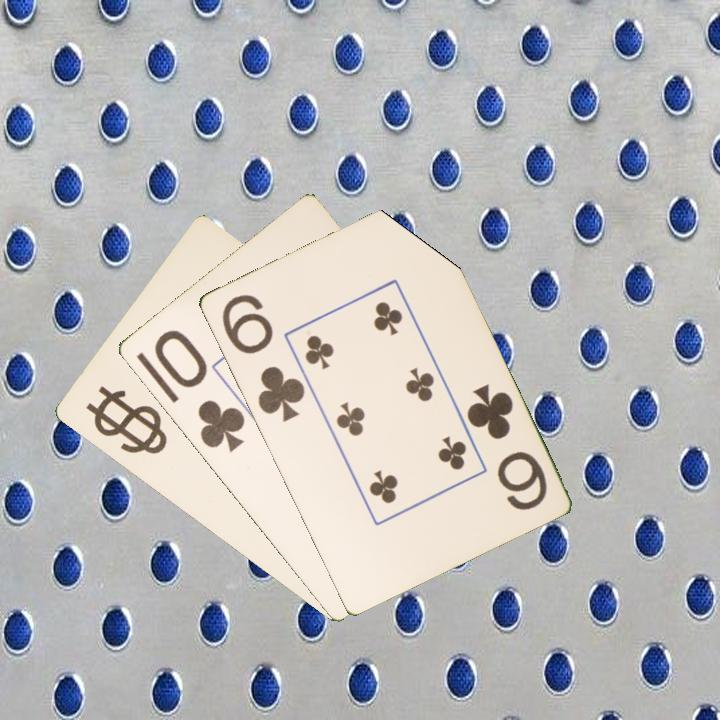10c: (149, 326, 248, 455)
6c: (217, 290, 308, 425), (462, 380, 550, 514)
JK: (95, 396, 164, 452)
